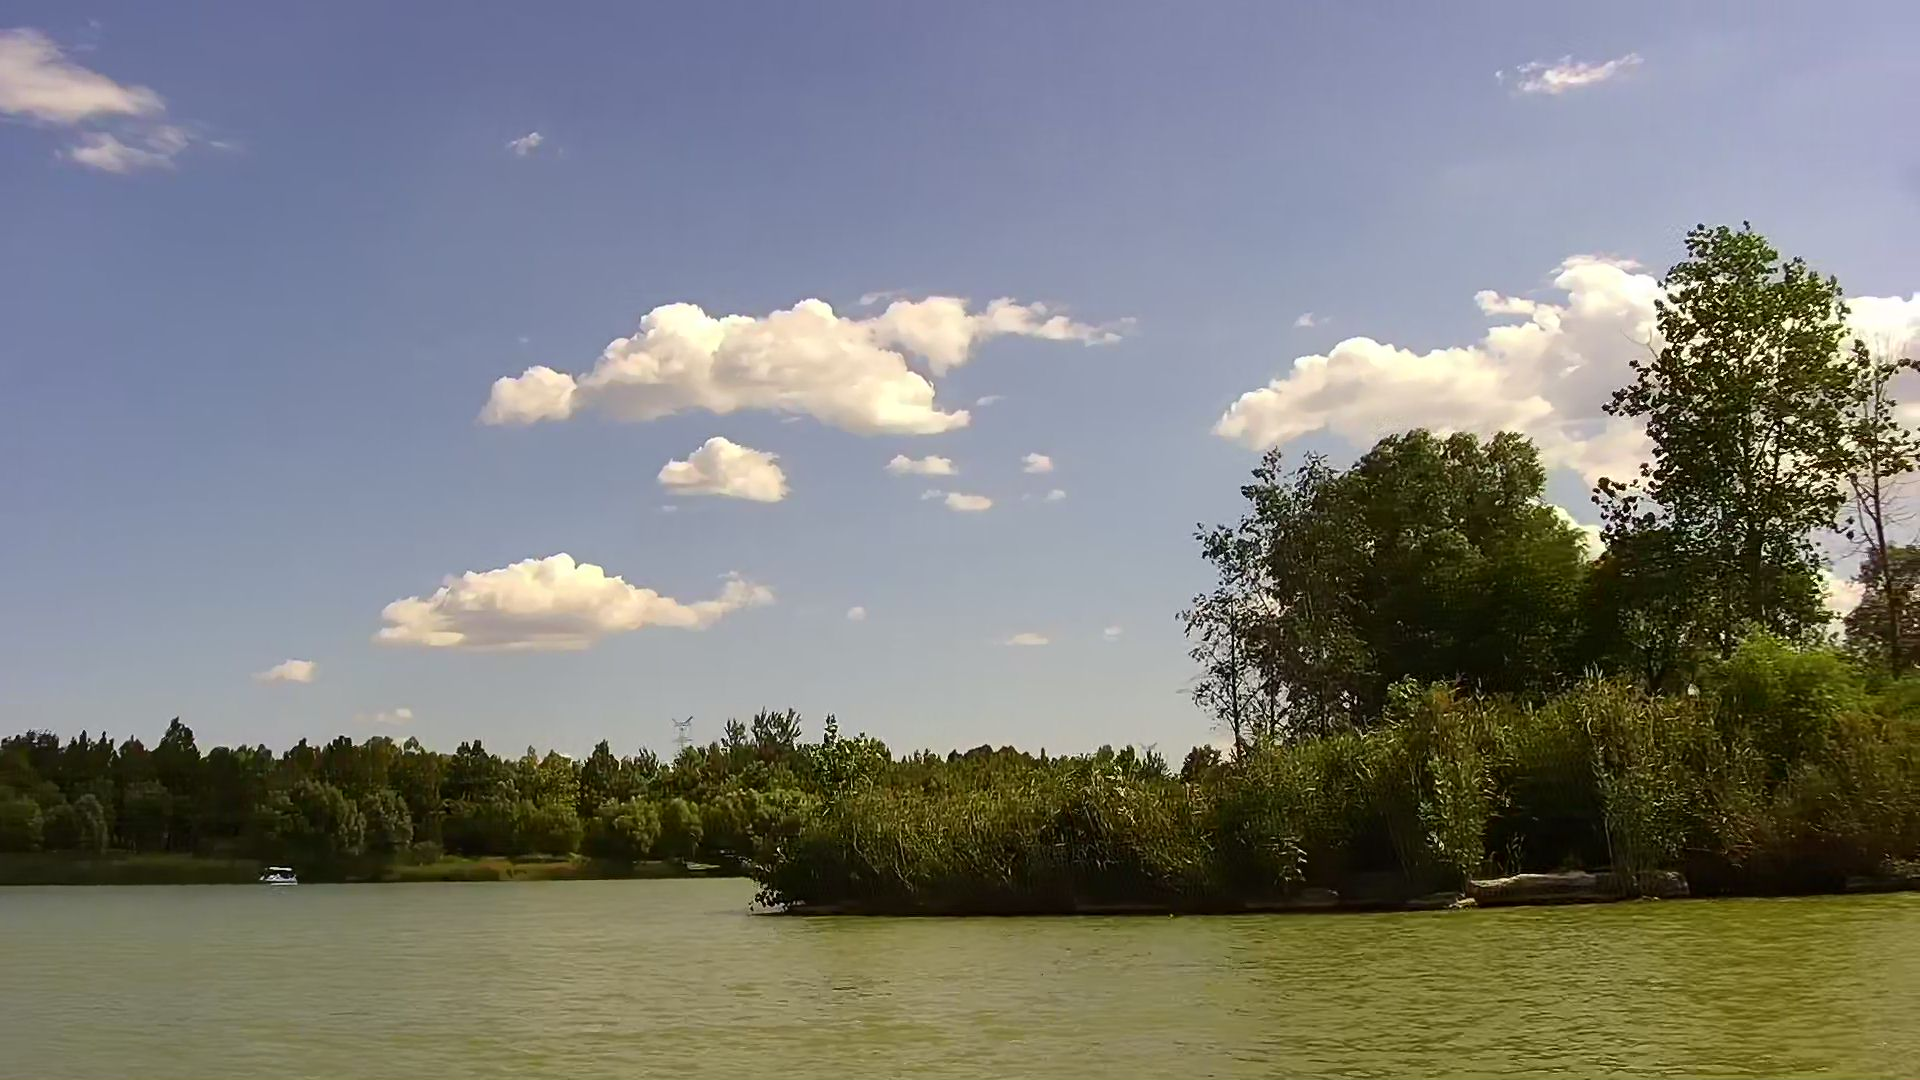boat: (258, 865, 297, 889)
